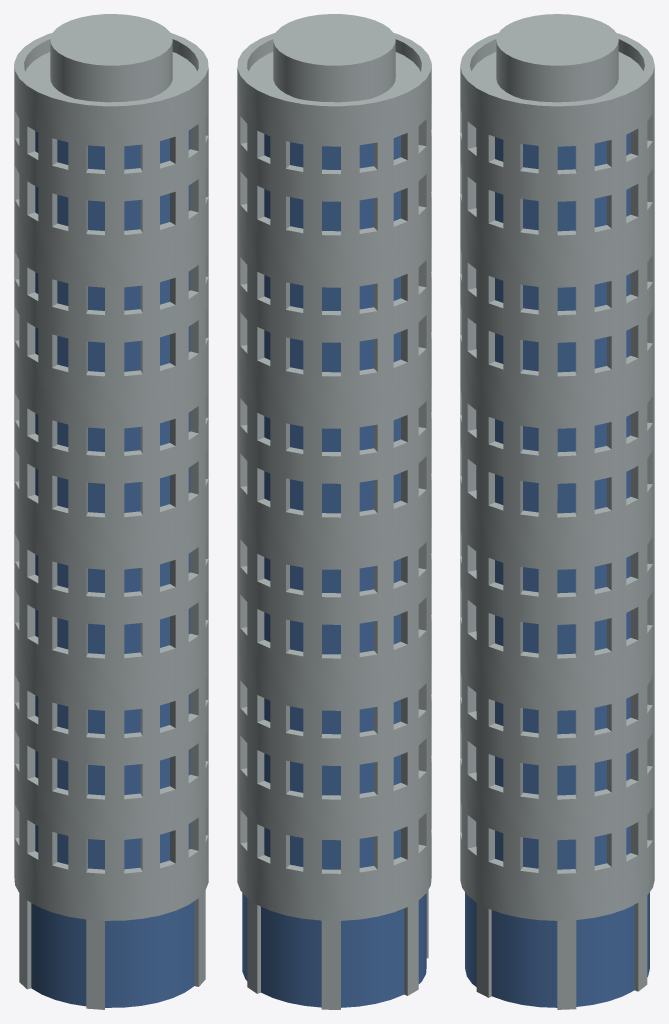
File: bill_006.fbx
3 renders of one model, left to right at view 1: azimuth 30°, elevation 25°; view 2: azimuth 150°, elevation 25°; view 3: azimuth 270°, elevation 25°, orthographic.
Visible parts, largest first — view 1: building.012; view 2: building.012; view 3: building.012.
Part boxes in pixels (bbox=[...]): building.012: bbox=[14, 14, 208, 1009]; building.012: bbox=[237, 14, 431, 1009]; building.012: bbox=[460, 14, 654, 1009].
Size of the model in its own units: 1386 by 7300 by 1386.
